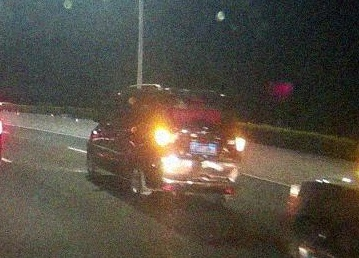L_light: (156, 129, 180, 145)
R_light: (227, 138, 244, 150)
T_light: (189, 101, 207, 105)
night-left: (149, 91, 244, 204)
